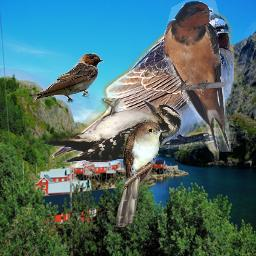Cuckoo: (116, 121, 167, 227)
Swallow: (50, 9, 237, 174), (163, 0, 231, 152), (33, 52, 104, 103)
Woodpecker: (41, 98, 190, 168)
